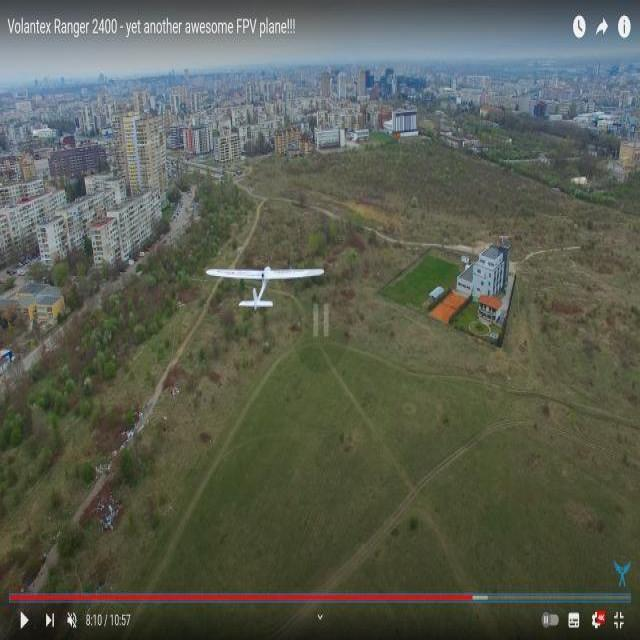UAV: (193, 246, 373, 364)
